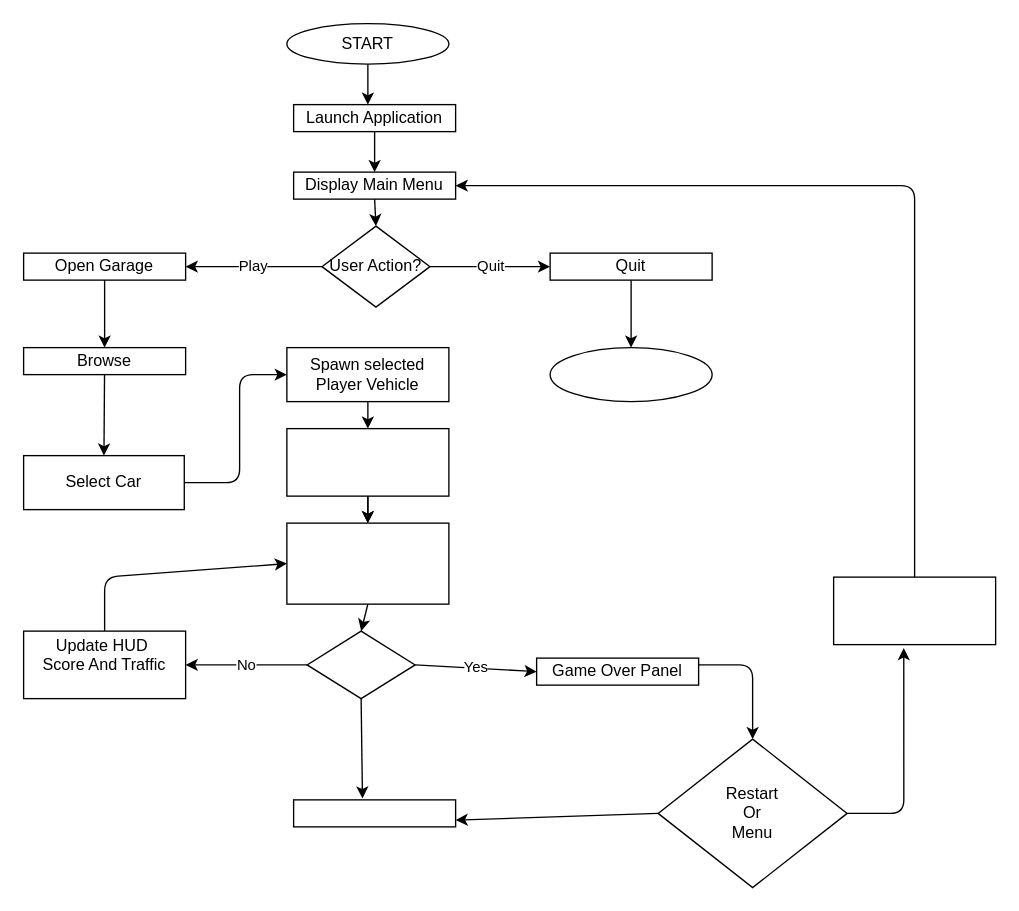
Image size: 1019x911. Some labels were removed from this diagram. The centre of each missing label's shape, as x and y in pixels:
"Bind Camera,UI,Audio,Tra -ffic System" goes at (367,461).
"Collision?" goes at (360,664).
"End" goes at (630,374).
"Gameplay:Accelerate, Brake,Dodge Traffic" goes at (367,563).
"Reload SampleScene" goes at (374,813).
"Return To main Menu" goes at (914,610).
